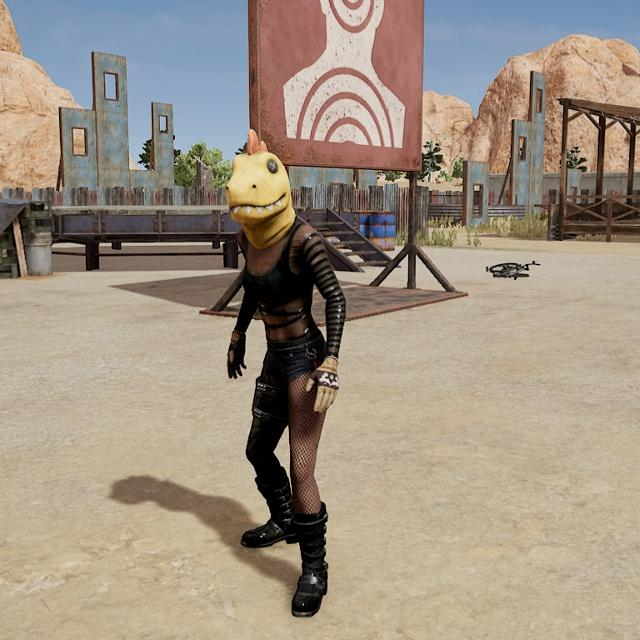head: (223, 148, 294, 239)
people: (220, 148, 347, 621)
